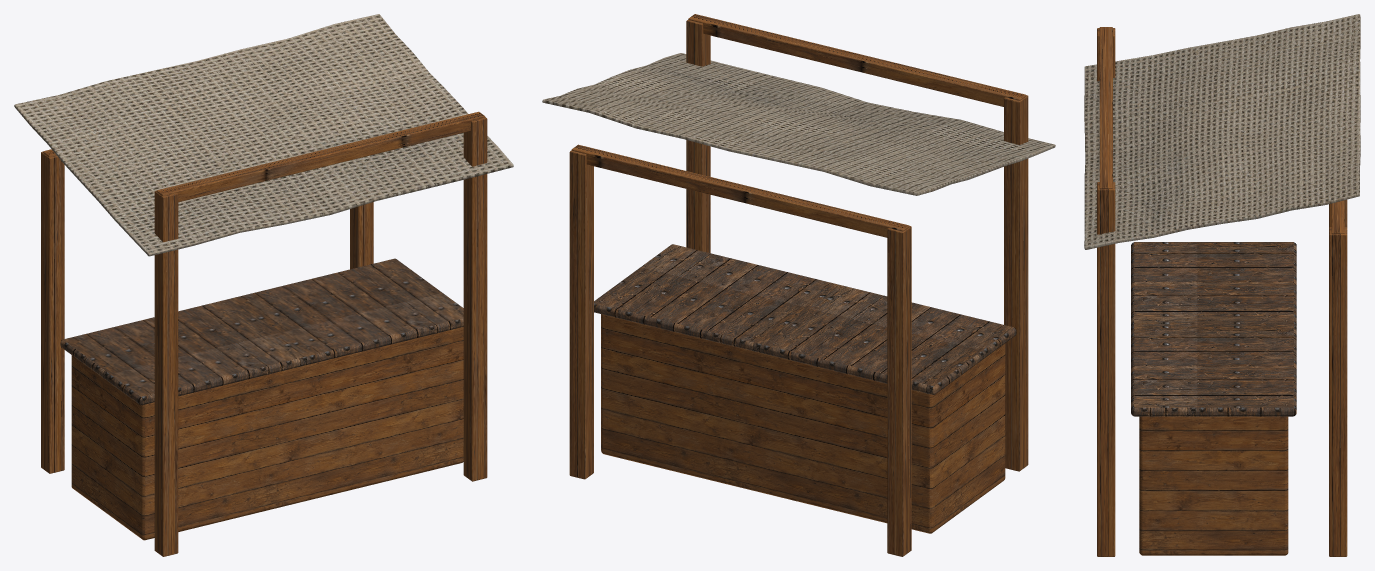
File: market-stall-v01.glb
3 renders of one model, left to right at view 1: azimuth 30°, elevation 25°; view 2: azimuth 150°, elevation 25°; view 3: azimuth 270°, elevation 25°, orthographic. The views are drawn at different scales.
Visible parts, largest first — view 1: market-stall; view 2: market-stall; view 3: market-stall.
Boxes of the visible parts, box(x1,y1,x2,y2) form: market-stall: box(14, 14, 513, 556); market-stall: box(542, 14, 1055, 556); market-stall: box(1084, 14, 1360, 556).
Size of the model in its own units: 2.6 by 2.49 by 1.67.
Materials: 3 (3 with a texture image).
